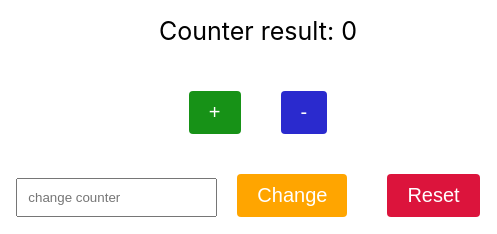
Test: renders the counter › should increment value from 0 to 2
The image size is (497, 234).
Expected: the text "0" is shown, [341,16,357,46]
Double-click the button with test id "add-btn" at (215, 113), box [189,91,241,134]
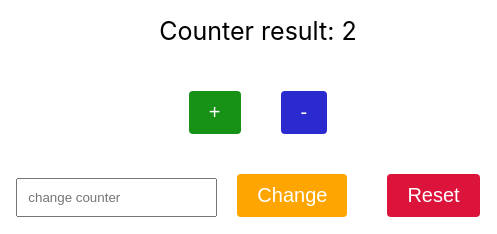
Now the text "2" is shown, box [342,16,357,46]
